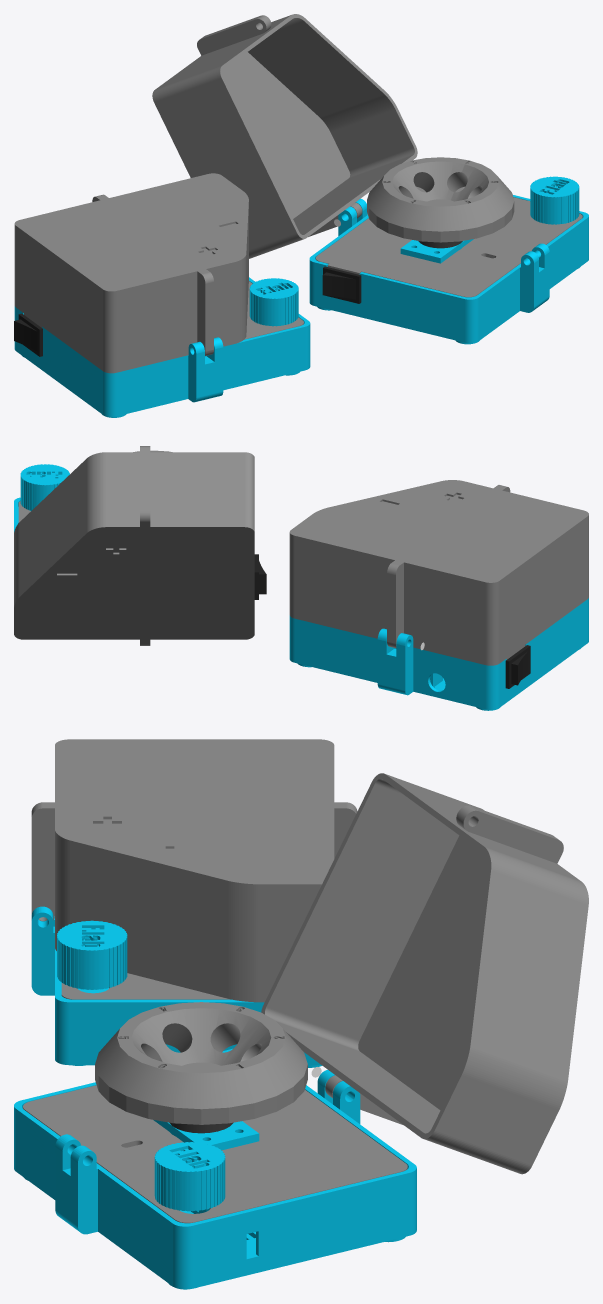
The model's file is LAB_Centrifuge.dae.
3 renders of one model, top to bottom at view 1: azimuth 30°, elevation 25°; view 2: azimuth 150°, elevation 25°; view 3: azimuth 270°, elevation 25°, orthographic. The views are drawn at different scales.
Parts seen in each view (by area): view 1: instance_24 (×3), instance_7 (×2), instance_5 (×2), instance_18 (×2), instance_76 (×2), instance_26 (×2), instance_11 (×2), instance_10 (×2), instance_21, instance_3, instance_80; view 2: instance_24 (×2), instance_7, instance_25, instance_8, instance_9, instance_76, instance_26, instance_80 (×2); view 3: instance_24 (×3), instance_7 (×2), instance_5 (×2), instance_18 (×2), instance_76 (×2), instance_26 (×2), instance_10 (×2), instance_21, instance_11, instance_9.
Part boxes in pixels (x1,y1,x2,y2): instance_24 (×3): [14, 14, 417, 373]; instance_7 (×2): [14, 195, 588, 416]; instance_5 (×2): [24, 186, 582, 339]; instance_18 (×2): [367, 157, 514, 242]; instance_76 (×2): [250, 176, 578, 325]; instance_26 (×2): [197, 15, 271, 355]; instance_11 (×2): [188, 251, 538, 402]; instance_10 (×2): [204, 243, 549, 399]; instance_21: [400, 239, 473, 263]; instance_3: [322, 272, 355, 299]; instance_80: [14, 319, 37, 351]; instance_24 (×2): [14, 452, 588, 665]; instance_7: [289, 598, 588, 709]; instance_25: [387, 560, 403, 648]; instance_8: [396, 633, 413, 695]; instance_9: [377, 628, 397, 692]; instance_76: [21, 464, 69, 510]; instance_26: [140, 446, 150, 526]; instance_80 (×2): [505, 645, 530, 688]; instance_24 (×3): [55, 739, 588, 1174]; instance_7 (×2): [14, 949, 416, 1289]; instance_5 (×2): [23, 973, 407, 1223]; instance_18 (×2): [95, 1002, 307, 1124]; instance_76 (×2): [57, 921, 224, 1210]; instance_26 (×2): [31, 808, 563, 921]; instance_10 (×2): [31, 906, 97, 1234]; instance_21: [153, 1120, 259, 1150]; instance_11: [55, 1134, 80, 1220]; instance_9: [333, 1081, 360, 1123].
Size of the model in its own units: 12.12 by 7.83 by 4.91.
